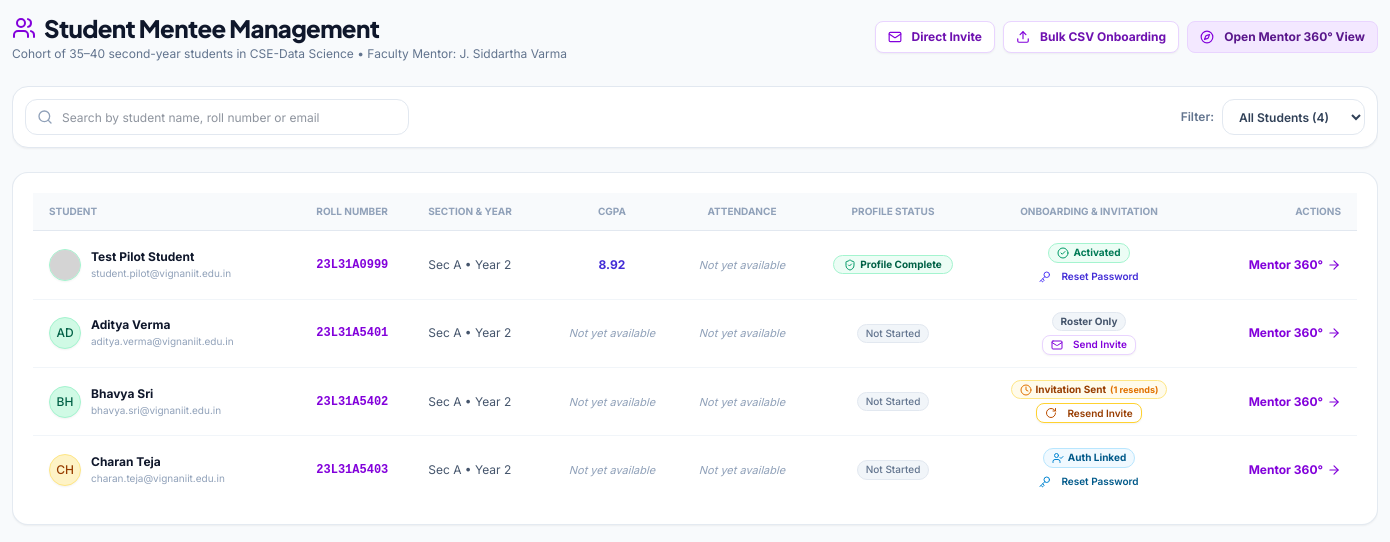
Mentor Connect — Admin Student Management Finalization for Real Onboarding › 4. provides global search by student name, roll number, or email with accurate placeholder
Expected: the text "23L31A0999" is shown, [308, 231, 420, 299]
Search by Roll Number
Type "23L31A5402" into the field with placeholder "Search by student name, roll number or email" at (217,117), box [25, 99, 409, 135]
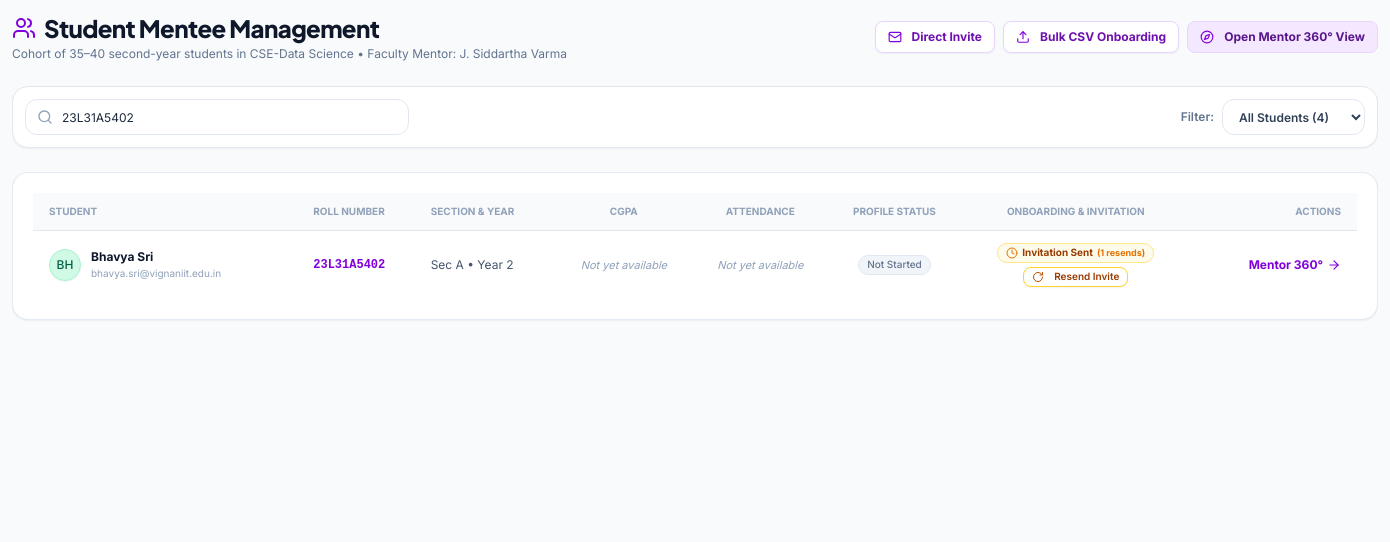
Expected: the text "Bhavya Sri" is shown, [91, 249, 153, 264]
Result: the text "Test Pilot Student" is gone
Search by Email
Replace the text in the field with placeholder "Search by student name, roll number or email" with "aditya.verma@vignaniit.edu.in" at (217,117), box [25, 99, 409, 135]
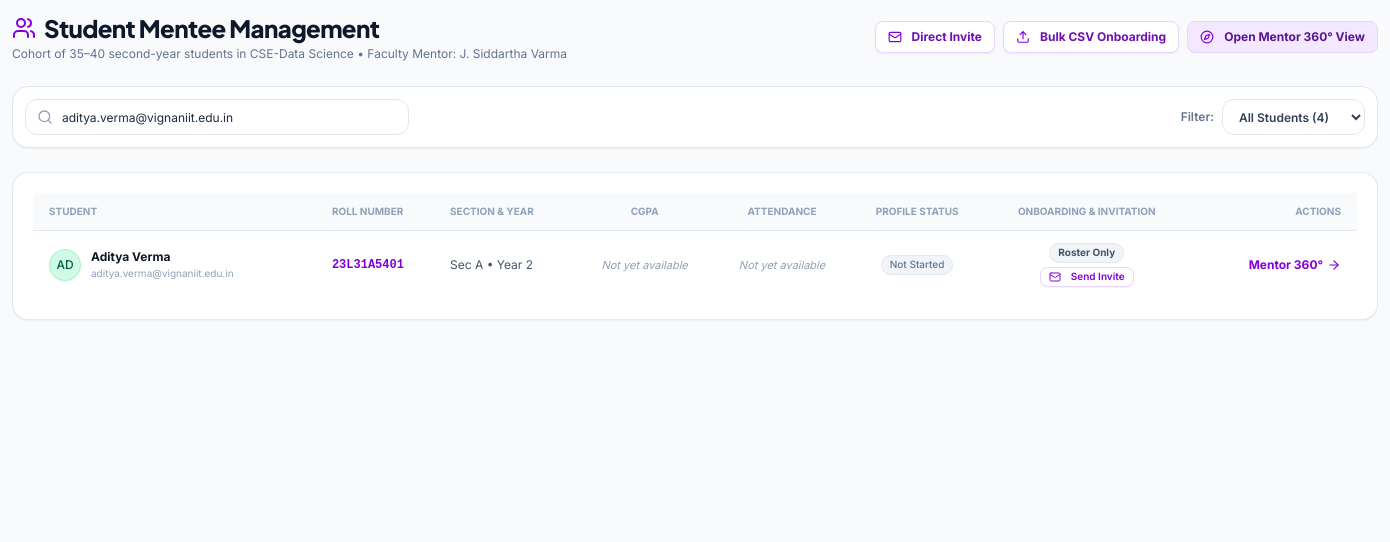
Result: the text "Aditya Verma" is shown at [91, 249, 170, 264]
Result: the text "Bhavya Sri" is gone
Reset Search
Clear the field with placeholder "Search by student name, roll number or email" at (217,117), box [25, 99, 409, 135]
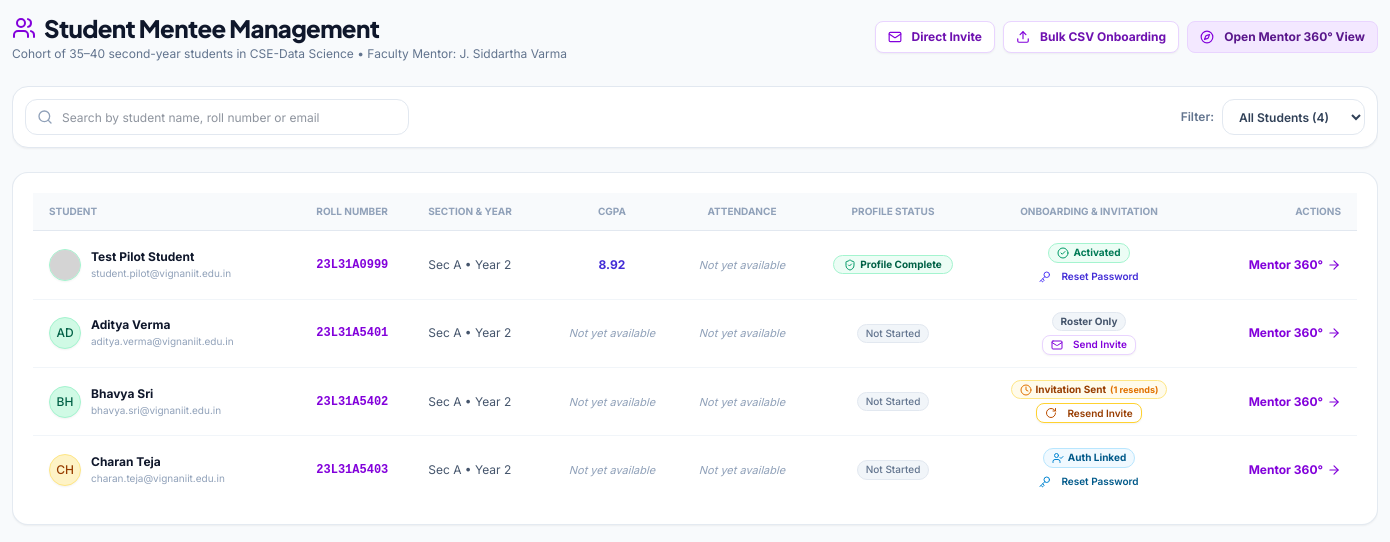
Result: the text "Test Pilot Student" is shown at [91, 249, 194, 264]
